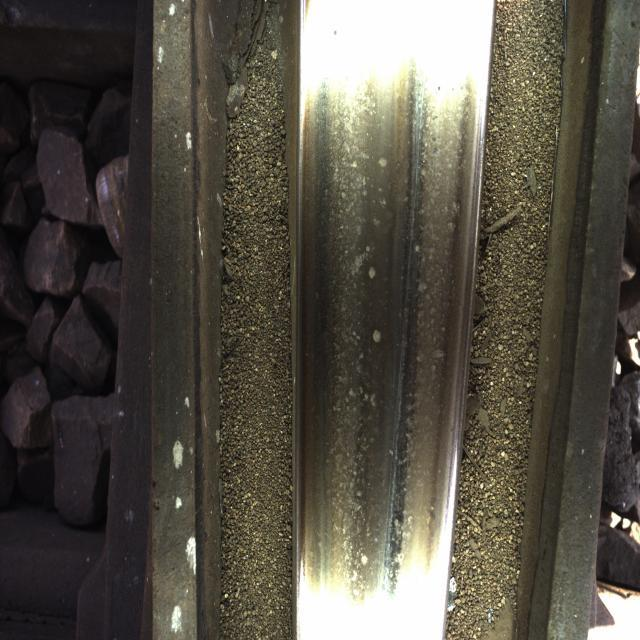scar: (329, 80, 380, 590)
